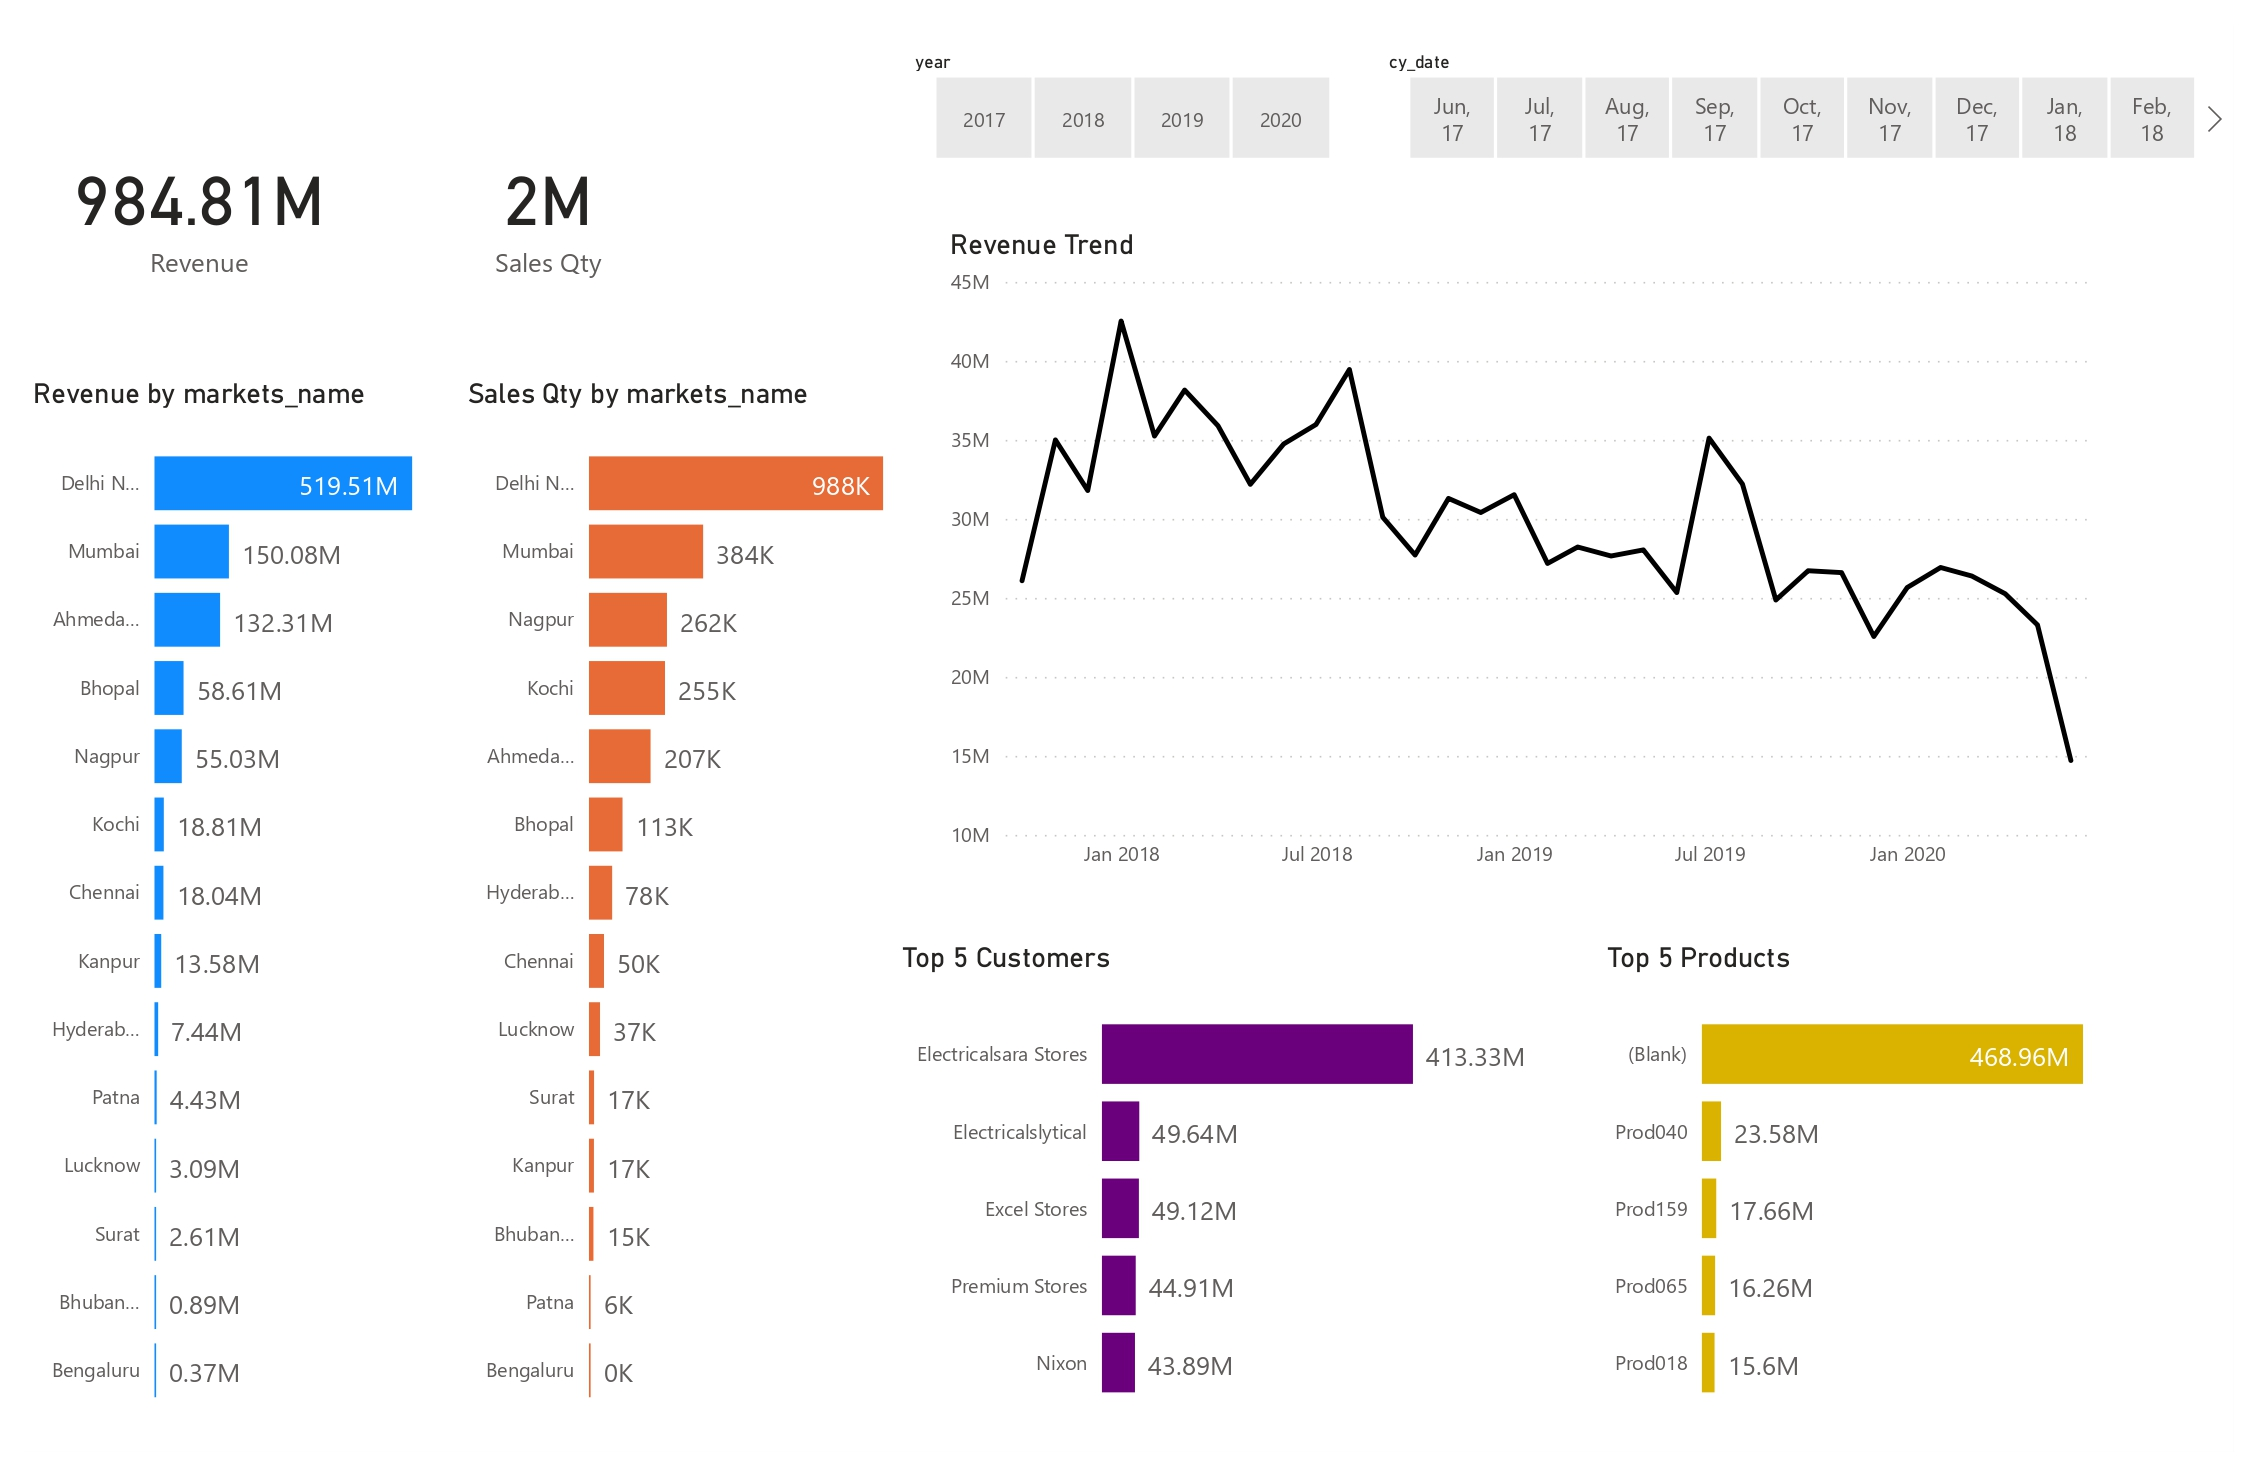

Layout of this report page (visuals, bound fields, positions):
{"tool":"powerbi","page":{"name":"Page 1","canvas":[1350,850],"ordinal":0},"visuals":[{"type":"card","fields":{"Values":["BaseMeasures.Revenue"]},"box":[0,0,213.3,203.9],"z":0},{"type":"card","fields":{"Values":["BaseMeasures.Sales Qty"]},"box":[213.3,0,213.3,203.9],"z":1000},{"type":"barChart","fields":{"Y":["BaseMeasures.Revenue"],"Category":["sales markets.markets_name"]},"box":[0,203.9,265.6,646.1],"z":2000},{"type":"barChart","title":"Sales Qty by markets_name","fields":{"Y":["BaseMeasures.Sales Qty"],"Category":["sales markets.markets_name"]},"box":[265.6,203.9,265.6,646.1],"z":3000},{"type":"slicer","fields":{"Values":["sales date.year"]},"box":[531.1,0,289.6,77.4],"z":4000},{"type":"slicer","fields":{"Values":["sales date.cy_date"]},"box":[820.7,0,529,77.4],"z":5000},{"type":"barChart","title":"Top 5 Customers","fields":{"Y":["BaseMeasures.Revenue"],"Category":["sales customers.custmer_name"]},"box":[531.1,548.9,407.7,301.1],"z":6000},{"type":"barChart","title":"Top 5 Products","fields":{"Y":["BaseMeasures.Revenue"],"Category":["sales products.product_code"]},"box":[961.9,548.9,365.9,301.1],"z":7000},{"type":"lineChart","title":"Revenue Trend","fields":{"Y":["BaseMeasures.Revenue"],"Category":["sales date.cy_date"]},"box":[560.4,112.9,719.3,401.5],"z":8000}]}

Visuals, with their boxes on the page's 1350x850 design canvas (x1, y1, x2, y2). These are canvas units, not pixel positions in the 2259x1477 screenshot, which may show the page scaled, cropped or inside an application window:
card - BaseMeasures.Revenue: BBox(0, 0, 213, 204)
card - BaseMeasures.Sales Qty: BBox(213, 0, 427, 204)
barChart - BaseMeasures.Revenue x sales markets.markets_name: BBox(0, 204, 266, 850)
"Sales Qty by markets_name" barChart: BBox(266, 204, 531, 850)
slicer - sales date.year: BBox(531, 0, 821, 77)
slicer - sales date.cy_date: BBox(821, 0, 1350, 77)
"Top 5 Customers" barChart: BBox(531, 549, 939, 850)
"Top 5 Products" barChart: BBox(962, 549, 1328, 850)
"Revenue Trend" lineChart: BBox(560, 113, 1280, 514)
